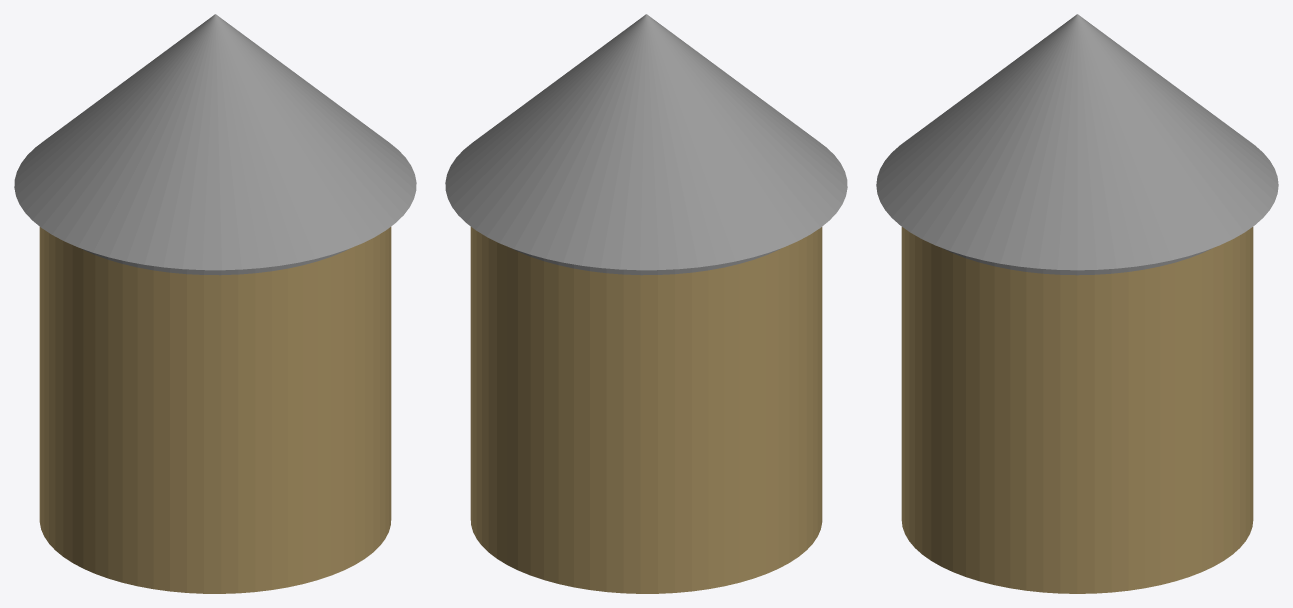
The model's file is silo2.fbx.
3 renders of one model, left to right at view 1: azimuth 30°, elevation 25°; view 2: azimuth 150°, elevation 25°; view 3: azimuth 270°, elevation 25°, orthographic.
Visible parts, largest first — view 1: Silo 2; view 2: Silo 2; view 3: Silo 2.
Part boxes in pixels (left/top/right/bottom): Silo 2: left=14, top=14, right=416, bottom=593; Silo 2: left=445, top=14, right=847, bottom=593; Silo 2: left=876, top=14, right=1278, bottom=593.
Bounding box in the file's own units: 394 × 546 × 394.
